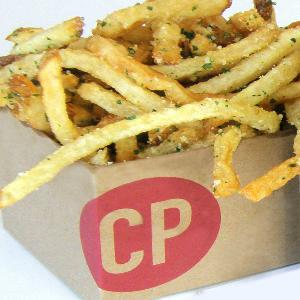fries: (4, 15, 298, 154)
